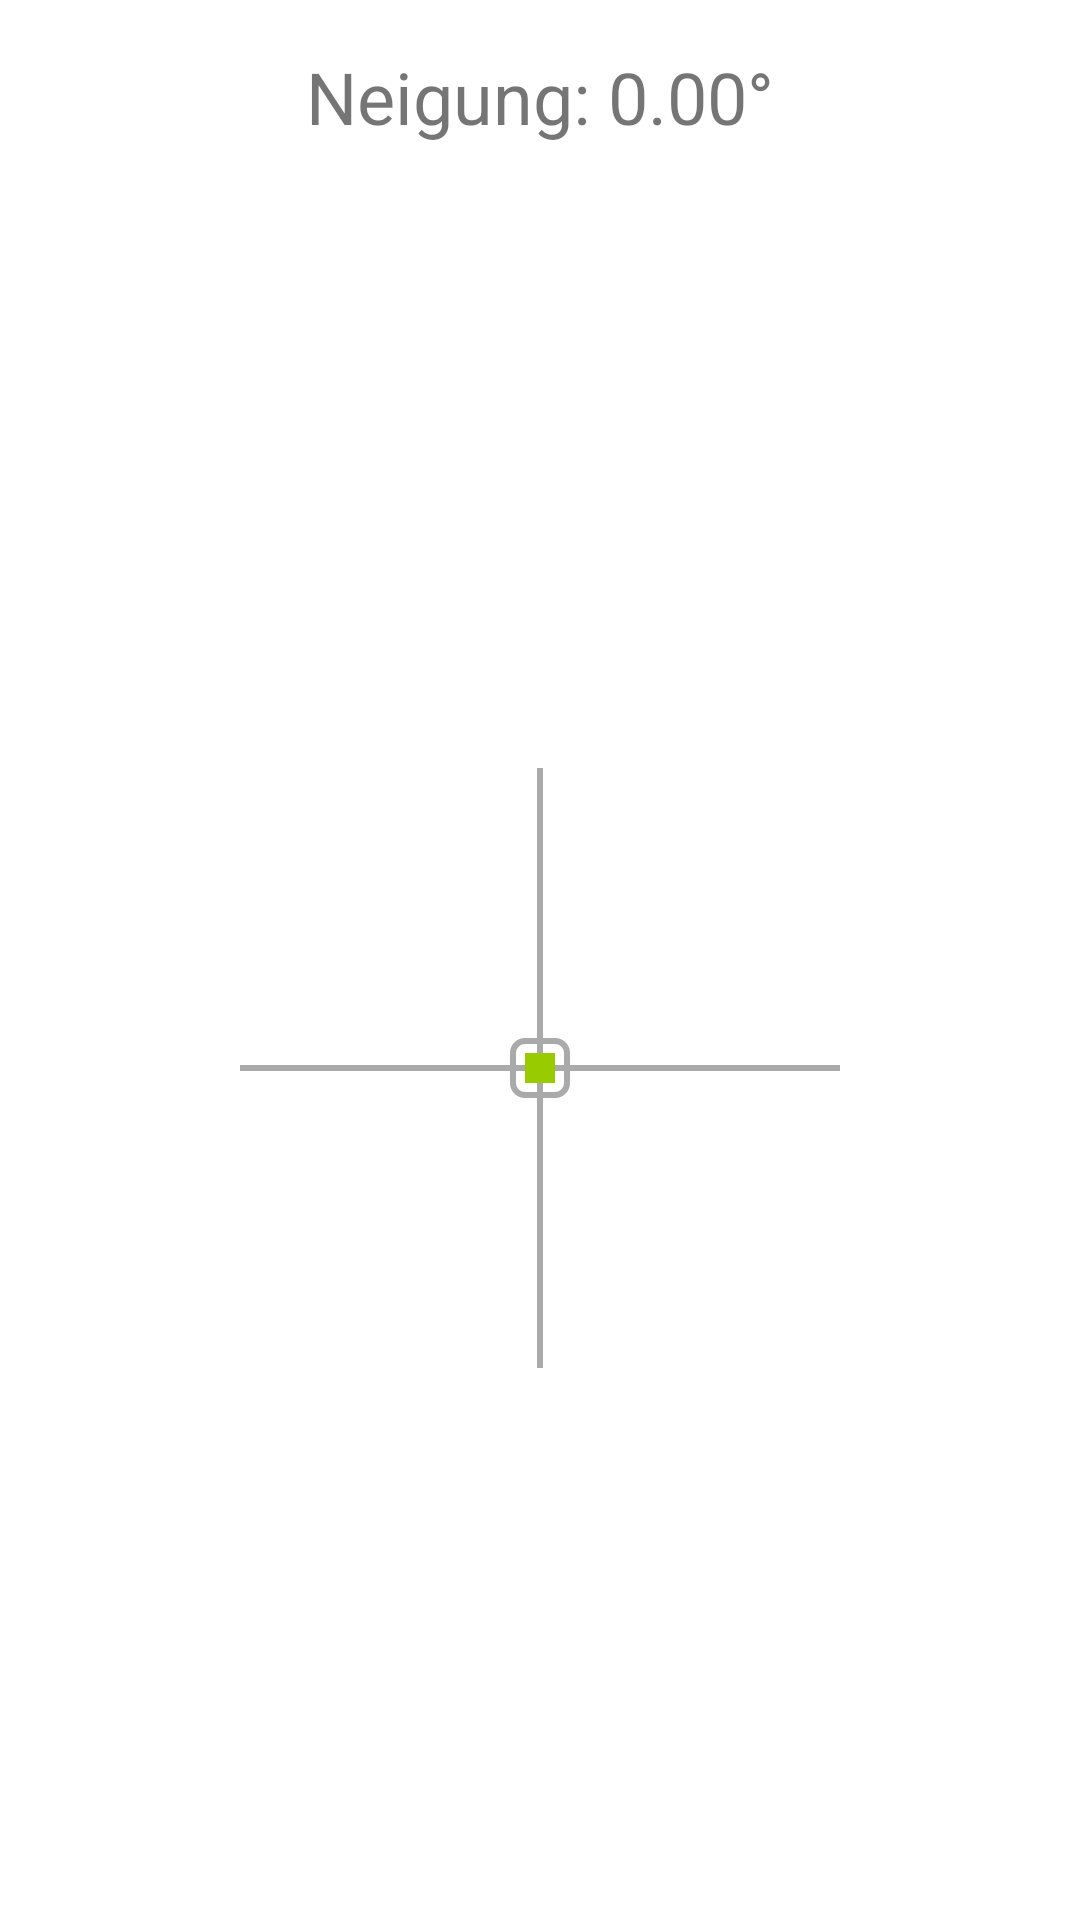

Screen size 1080*1920. Icon name, then its box in pixels as Rect(x1, y1, x2, y2):
box: Rect(510, 1038, 570, 1098)
